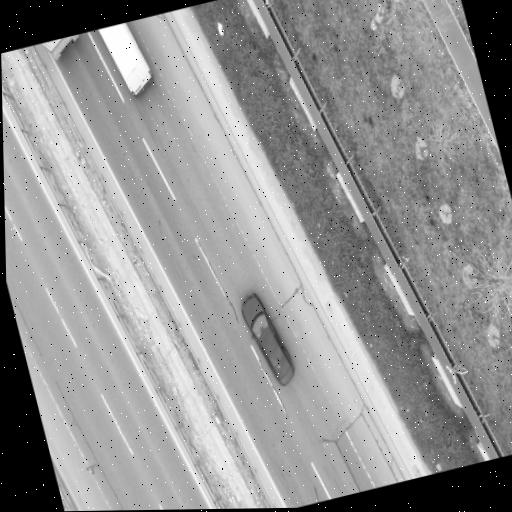car: (242, 294, 294, 385)
truck: (99, 23, 153, 96), (43, 35, 78, 59)
